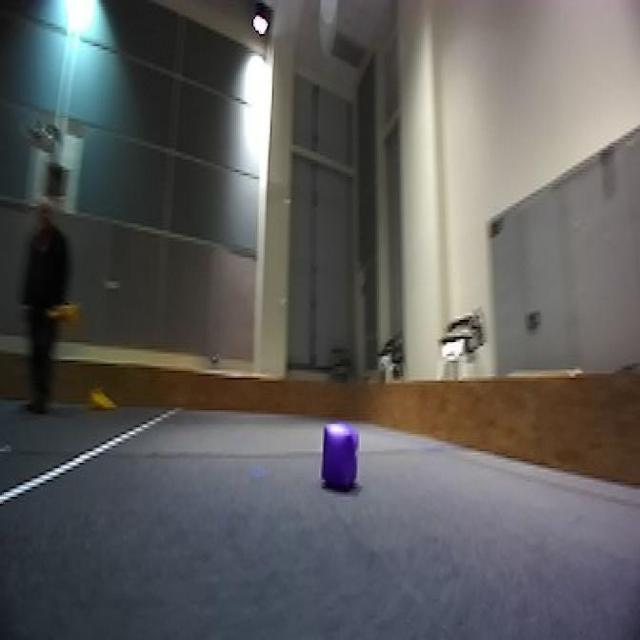frc_cone: (88, 383, 114, 412), (54, 298, 79, 327)
frc_cube: (316, 421, 360, 494)
